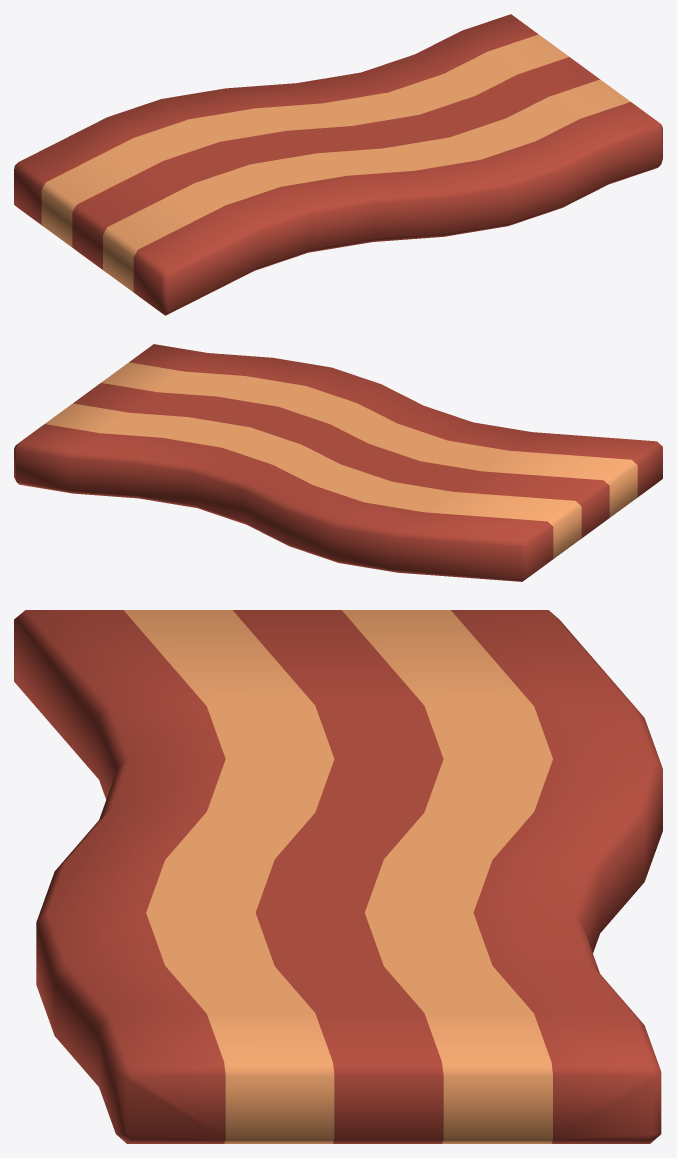
The model's file is Bacon_Hotdog_half.001.fbx.
The picture shows the model from 3 angles, top to bottom: view 1: azimuth 30°, elevation 25°; view 2: azimuth 150°, elevation 25°; view 3: azimuth 270°, elevation 25°; orthographic projection. The views are drawn at different scales.
Visible parts, largest first — view 1: Bacon_Hotdog_half.001; view 2: Bacon_Hotdog_half.001; view 3: Bacon_Hotdog_half.001.
Part boxes in pixels (left/top/right/bottom): Bacon_Hotdog_half.001: left=14, top=14, right=662, bottom=315; Bacon_Hotdog_half.001: left=14, top=344, right=662, bottom=581; Bacon_Hotdog_half.001: left=14, top=610, right=662, bottom=1143.
Size of the model in its own units: 64.34 by 38.27 by 5.32.
